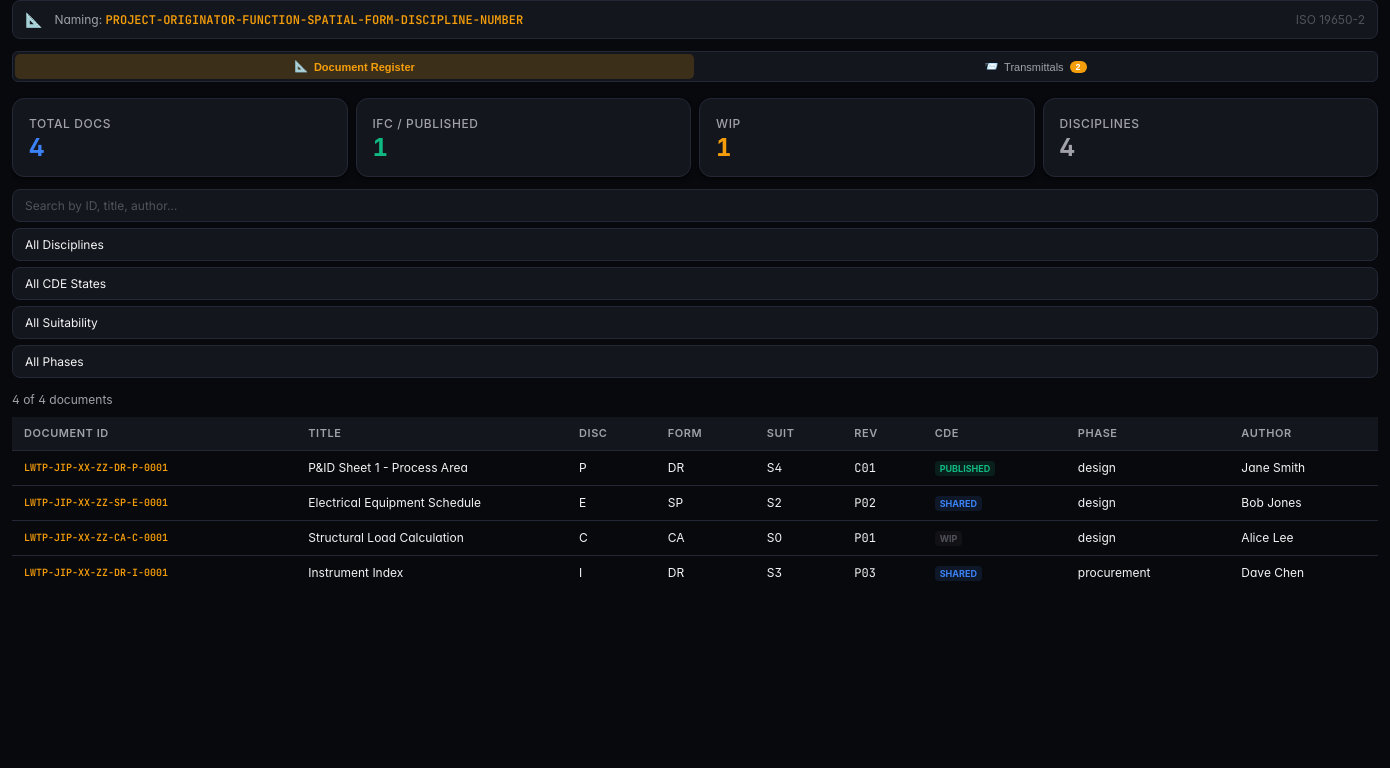
Test case: DocumentsView — document register › search filters by document ID
Type "DR-P" into the search field named "search documents" at (695, 206), box [12,189,1378,222]
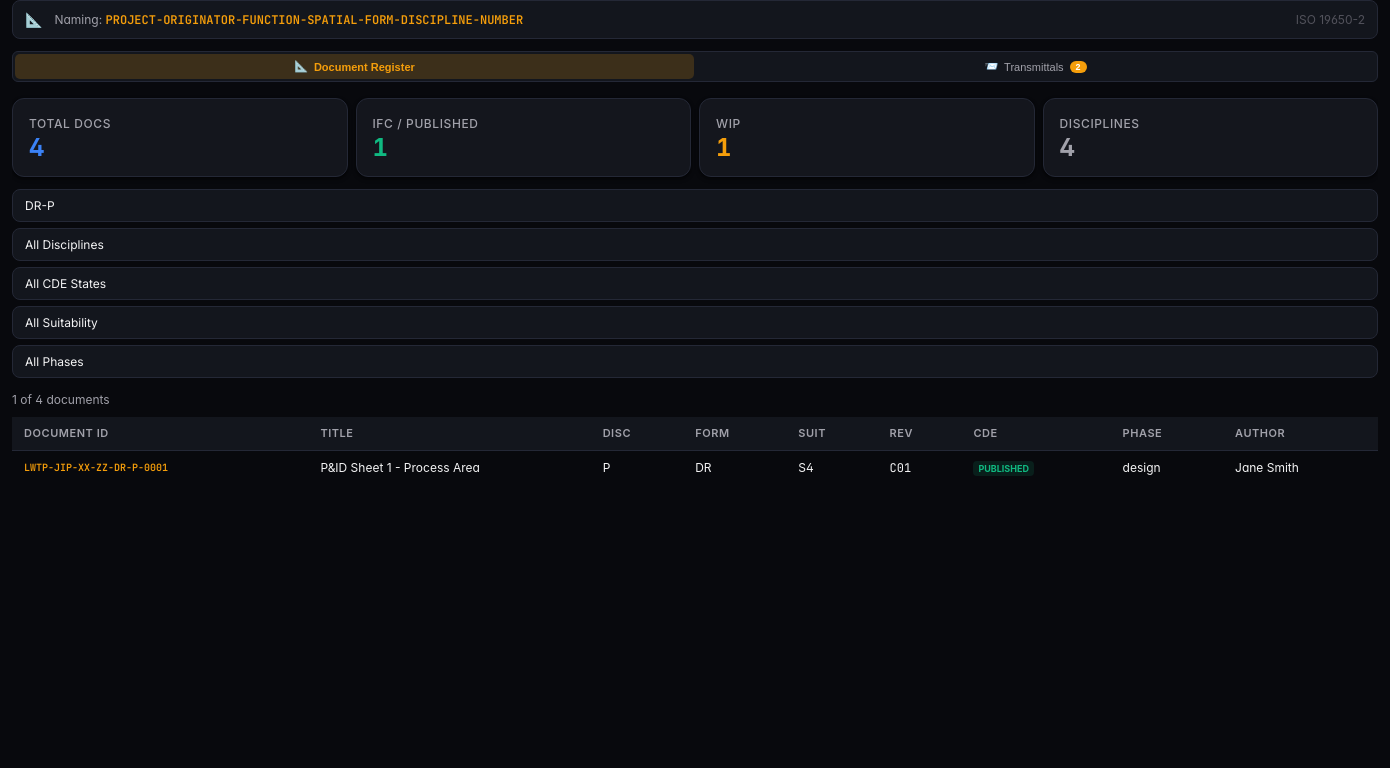
Expected: the text "LWTP-JIP-XX-ZZ-DR-P-0001" is shown, [12,450,308,484]
Expected: the text "LWTP-JIP-XX-ZZ-SP-E-0001" is gone
